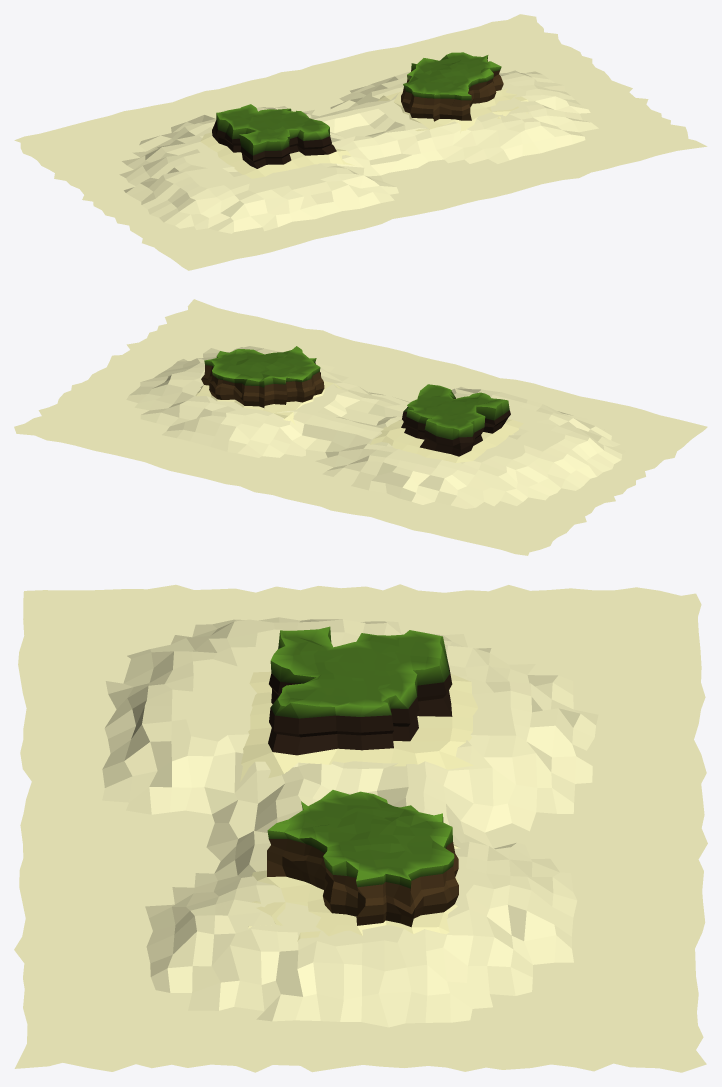
File: Island 1.fbx
3 renders of one model, top to bottom at view 1: azimuth 30°, elevation 25°; view 2: azimuth 150°, elevation 25°; view 3: azimuth 270°, elevation 25°, orthographic. The views are drawn at different scales.
Parts seen in each view (by area): view 1: Plane.002, Plane.001, Plane; view 2: Plane.002, Plane.001, Plane; view 3: Plane.002, Plane.001, Plane.
Boxes of the visible parts, left/top/right/bottom form: Plane.002: left=14, top=14, right=707, bottom=270; Plane.001: left=200, top=104, right=354, bottom=178; Plane: left=378, top=52, right=528, bottom=133; Plane.002: left=14, top=299, right=707, bottom=555; Plane.001: left=370, top=384, right=523, bottom=462; Plane: left=195, top=346, right=341, bottom=424; Plane.002: left=14, top=584, right=707, bottom=1072; Plane.001: left=240, top=626, right=477, bottom=781; Plane: left=248, top=790, right=459, bottom=941.
Size of the model in its own units: 1023 by 86.62 by 614.
1 material, 1 textured.
